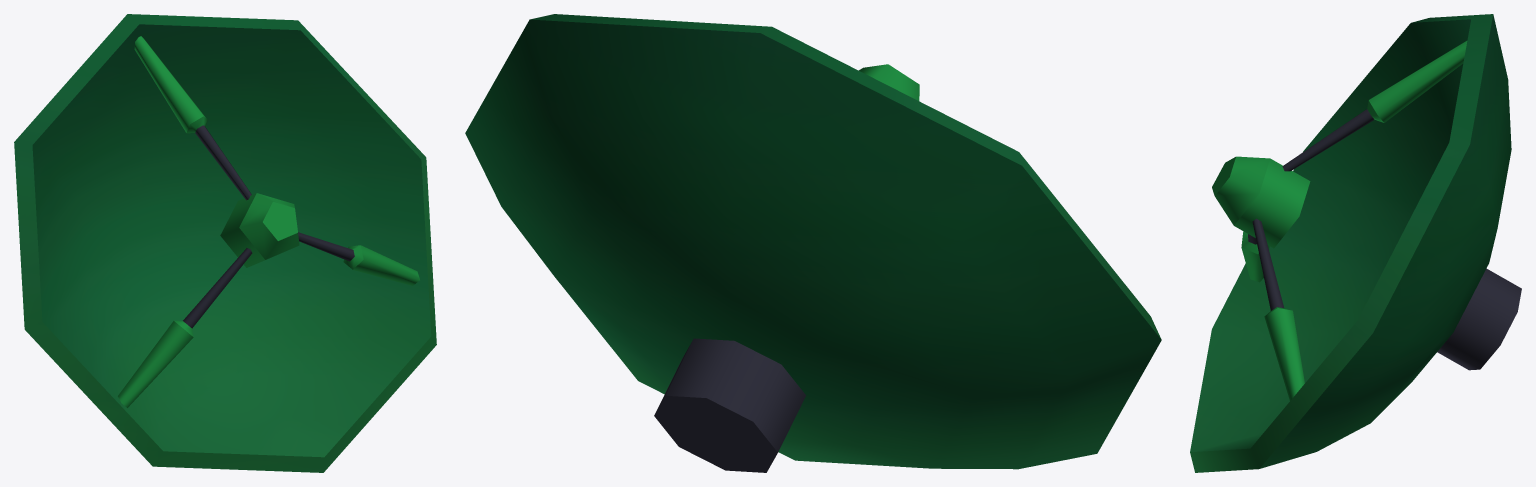
Rendered from Antene_2_E_1.fbx.
The picture shows the model from 3 angles, left to right: view 1: azimuth 30°, elevation 25°; view 2: azimuth 150°, elevation 25°; view 3: azimuth 270°, elevation 25°; orthographic projection. The views are drawn at different scales.
Visible parts, largest first — view 1: Antene_2_E_1; view 2: Antene_2_E_1; view 3: Antene_2_E_1.
Boxes of the visible parts, bbox=[...] form: Antene_2_E_1: bbox=[14, 14, 436, 472]; Antene_2_E_1: bbox=[465, 14, 1161, 472]; Antene_2_E_1: bbox=[1190, 14, 1521, 472].
Size of the model in its own units: 142 by 120 by 84.78.
